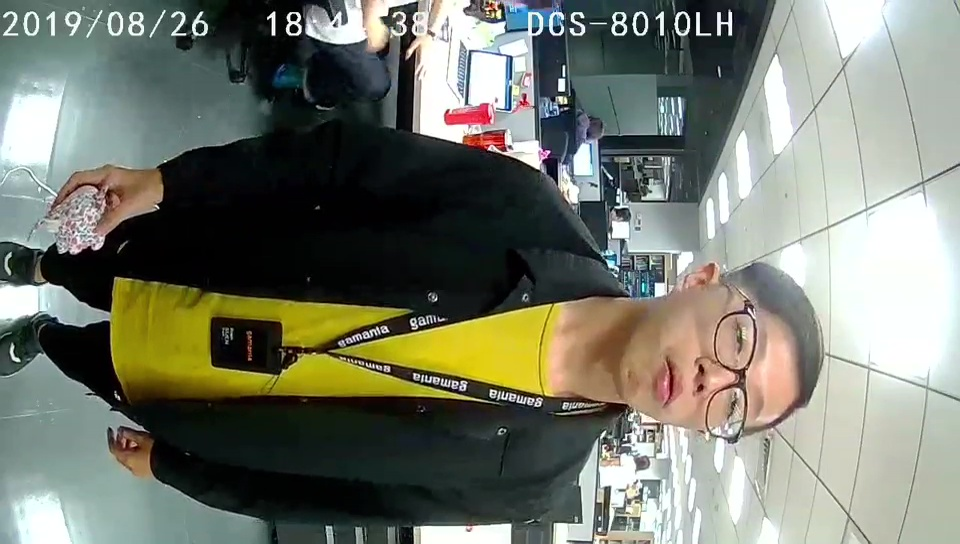pig: (50, 186, 109, 253)
